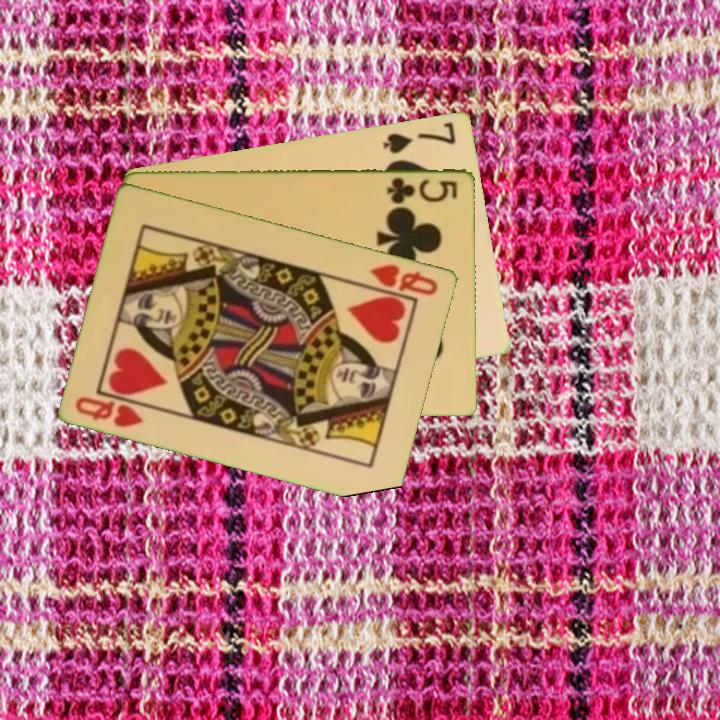5c: (383, 173, 461, 206)
7s: (379, 118, 459, 156)
Qh: (367, 260, 442, 298), (72, 392, 147, 430)
